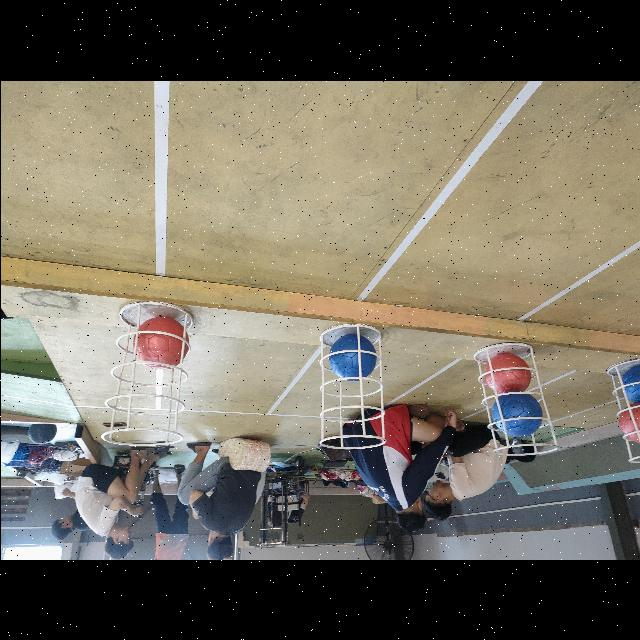B: (491, 392, 542, 438), (328, 334, 376, 382), (620, 362, 640, 406)
R: (132, 318, 188, 370), (484, 352, 530, 393), (618, 402, 640, 444)
